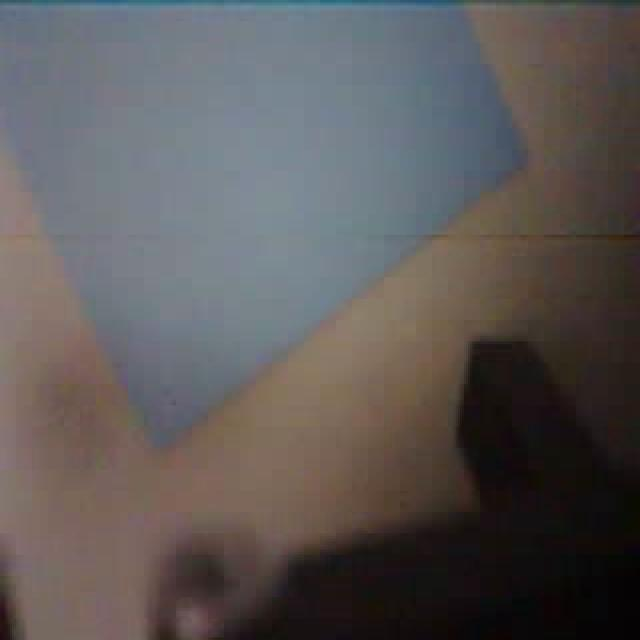blue_box: (0, 0, 532, 453)
